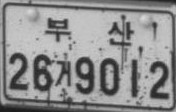0: (98, 56, 119, 96)
1: (125, 58, 143, 98)
2: (148, 59, 170, 100), (8, 51, 29, 91)
6: (31, 52, 52, 91)
9: (73, 55, 96, 95)
거: (53, 59, 71, 88)
부산_D: (44, 16, 135, 46)
